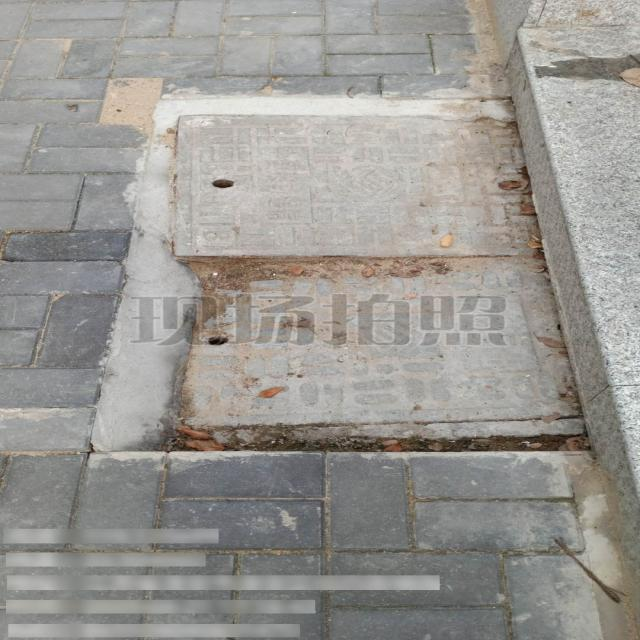Faulty: (138, 97, 590, 456)
